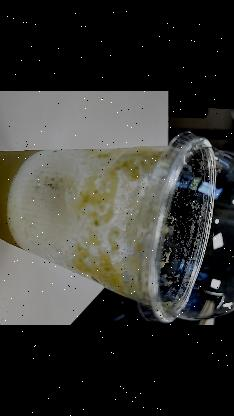Others: (0, 129, 234, 325), (135, 127, 234, 324)
